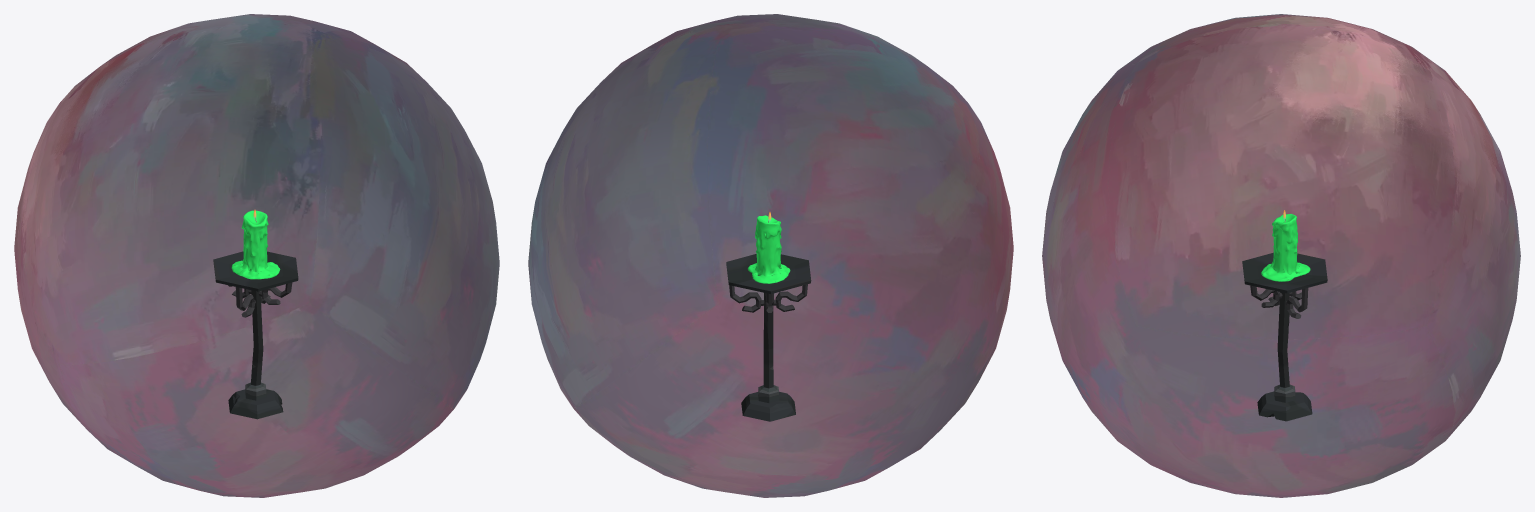
File: XCandleAnimatedFlame.glb
3 renders of one model, left to right at view 1: azimuth 30°, elevation 25°; view 2: azimuth 150°, elevation 25°; view 3: azimuth 270°, elevation 25°, orthographic.
Visible parts, largest first — view 1: Room, Candle_Stand, Candle.000; view 2: Room, Candle_Stand, Candle.000; view 3: Room, Candle_Stand, Candle.000.
Part boxes in pixels (<box>): Room: <box>14,14,499,497</box>; Candle_Stand: <box>213,251,298,419</box>; Candle.000: <box>231,210,280,279</box>; Room: <box>528,14,1013,497</box>; Candle_Stand: <box>726,254,811,421</box>; Candle.000: <box>748,215,790,283</box>; Room: <box>1042,14,1520,497</box>; Candle_Stand: <box>1242,252,1327,421</box>; Candle.000: <box>1261,213,1310,281</box>.
Bounding box in the file's own units: 24.44 × 24.44 × 24.44.
5 materials, 3 textured.
